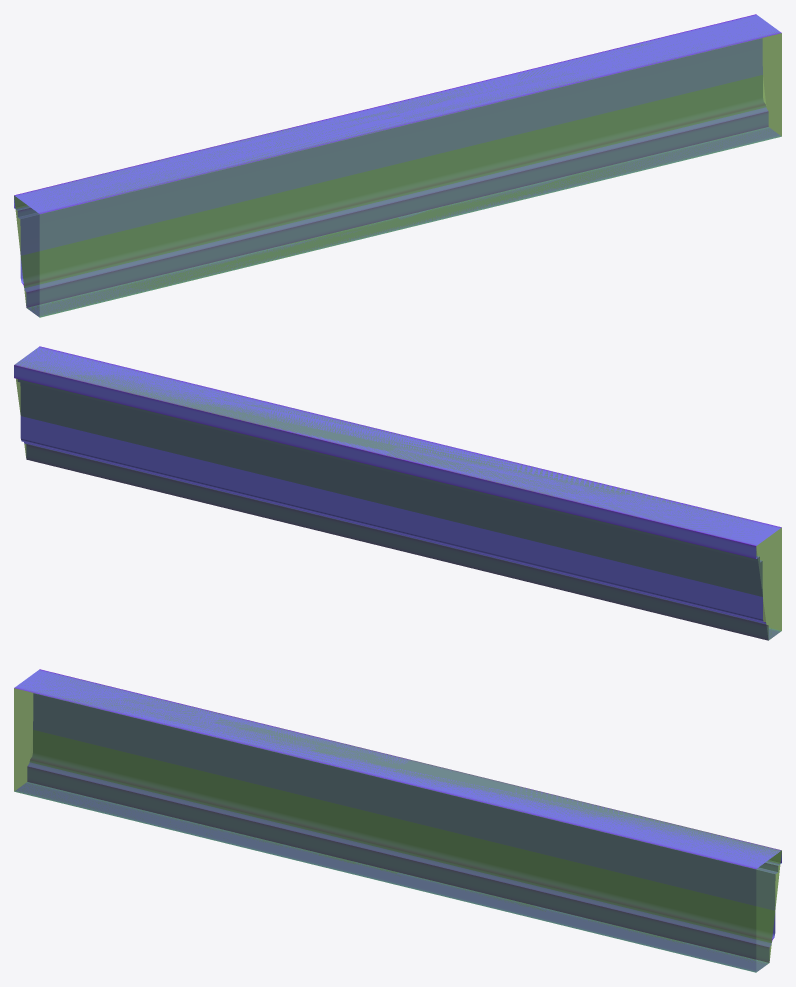
Rendered from F_md_TrimH_3m_03.fbx.
3 views of the same model, one above another, from view 1: azimuth 30°, elevation 25°; view 2: azimuth 150°, elevation 25°; view 3: azimuth 330°, elevation 25° (orthographic).
Visible parts, largest first — view 1: F_md_TrimH_3m_03_LOD0, F_md_TrimH_3m_03_col_01; view 2: F_md_TrimH_3m_03_LOD0, F_md_TrimH_3m_03_col_01; view 3: F_md_TrimH_3m_03_LOD0, F_md_TrimH_3m_03_col_01.
Part boxes in pixels (x1,y1,x2,y2): F_md_TrimH_3m_03_LOD0: (14, 14, 781, 317); F_md_TrimH_3m_03_col_01: (14, 32, 781, 317); F_md_TrimH_3m_03_LOD0: (14, 346, 781, 640); F_md_TrimH_3m_03_col_01: (15, 348, 781, 640); F_md_TrimH_3m_03_LOD0: (14, 669, 781, 972); F_md_TrimH_3m_03_col_01: (14, 672, 781, 972).
Size of what is drawn, in the model's own units: 300 by 40 by 18.05.
